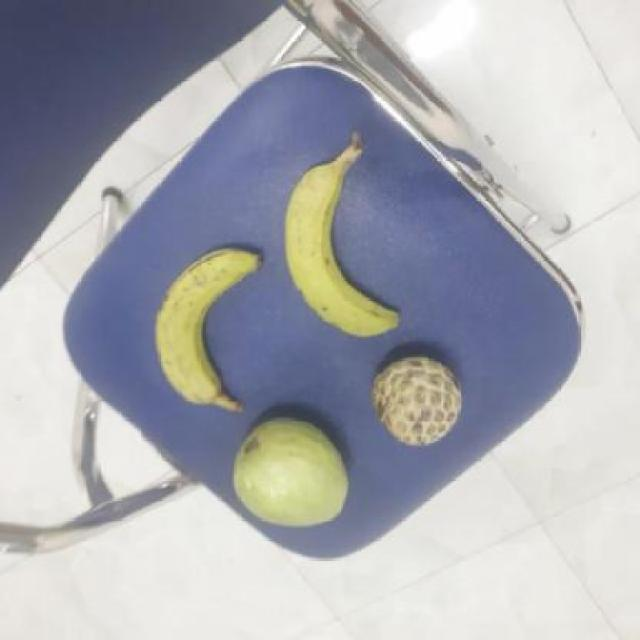banana: (283, 158, 405, 338), (154, 252, 271, 412)
guava: (231, 414, 352, 531)
sugar apple: (374, 356, 466, 446)
